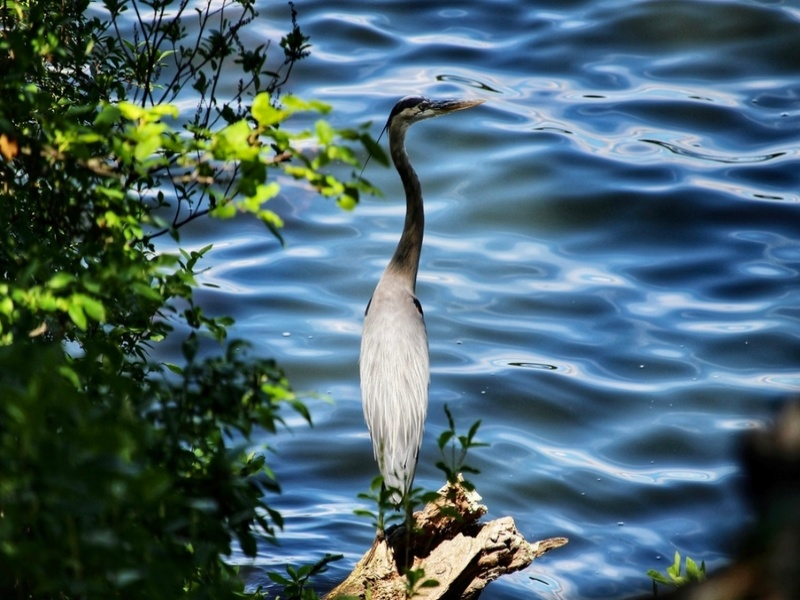heron: (357, 94, 487, 544)
